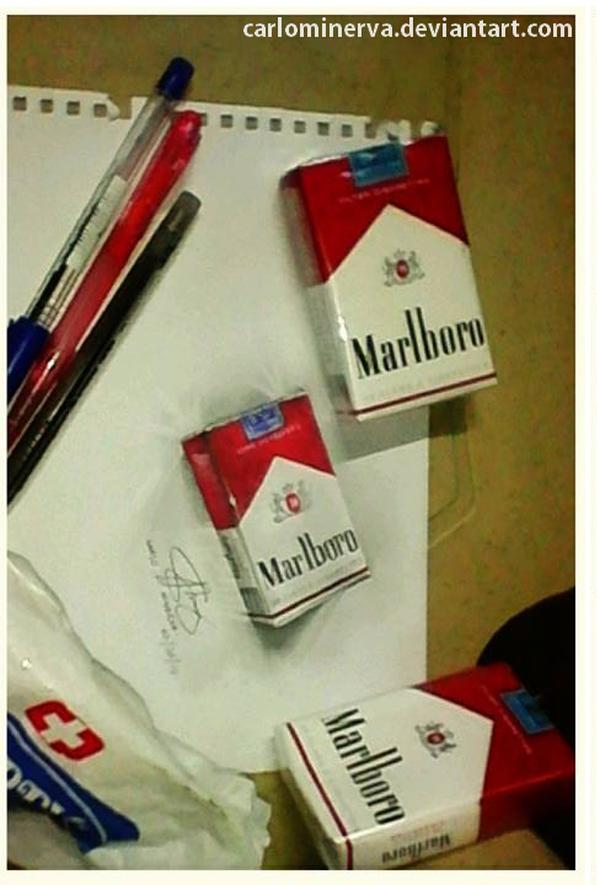marlboro_red: (305, 679, 552, 836), (320, 158, 461, 397), (230, 411, 342, 616)
